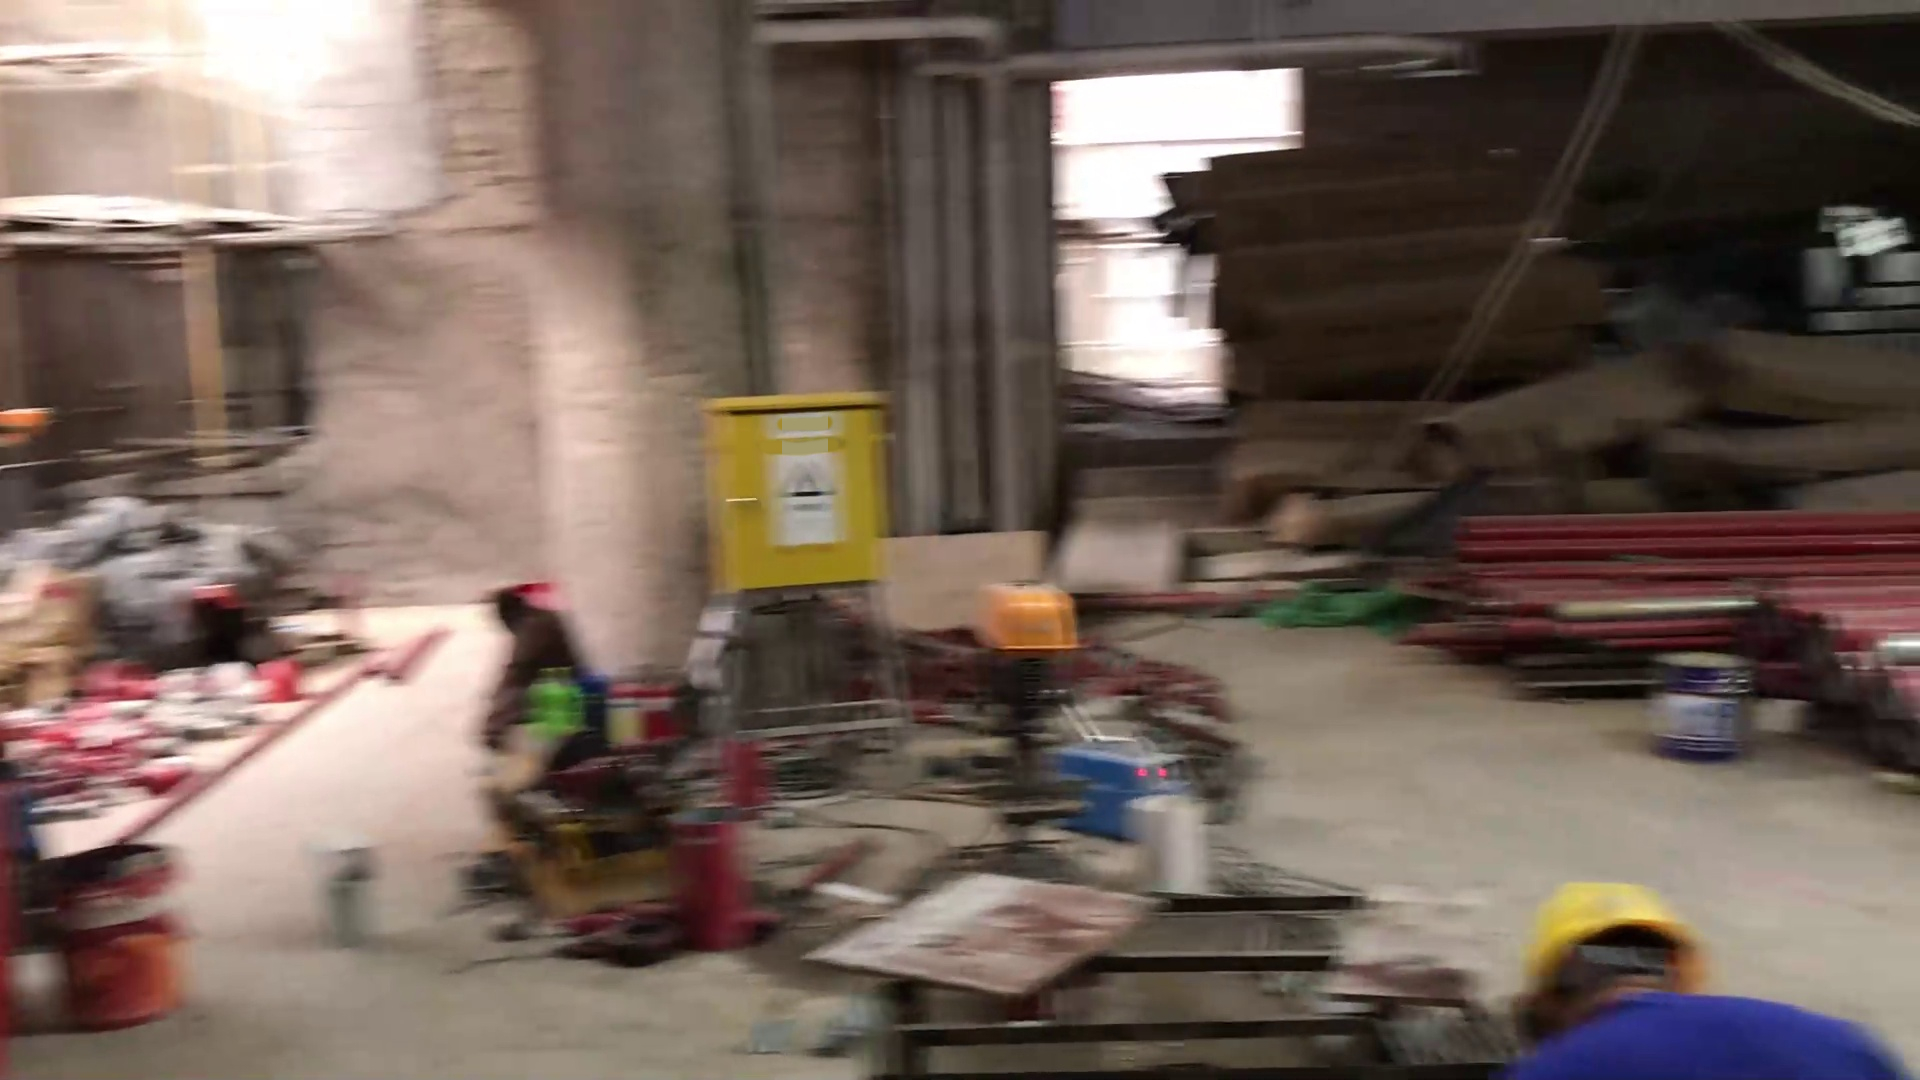ebox: (666, 378, 906, 615)
helmet: (1496, 872, 1725, 1046)
person: (1426, 852, 1907, 1080)
